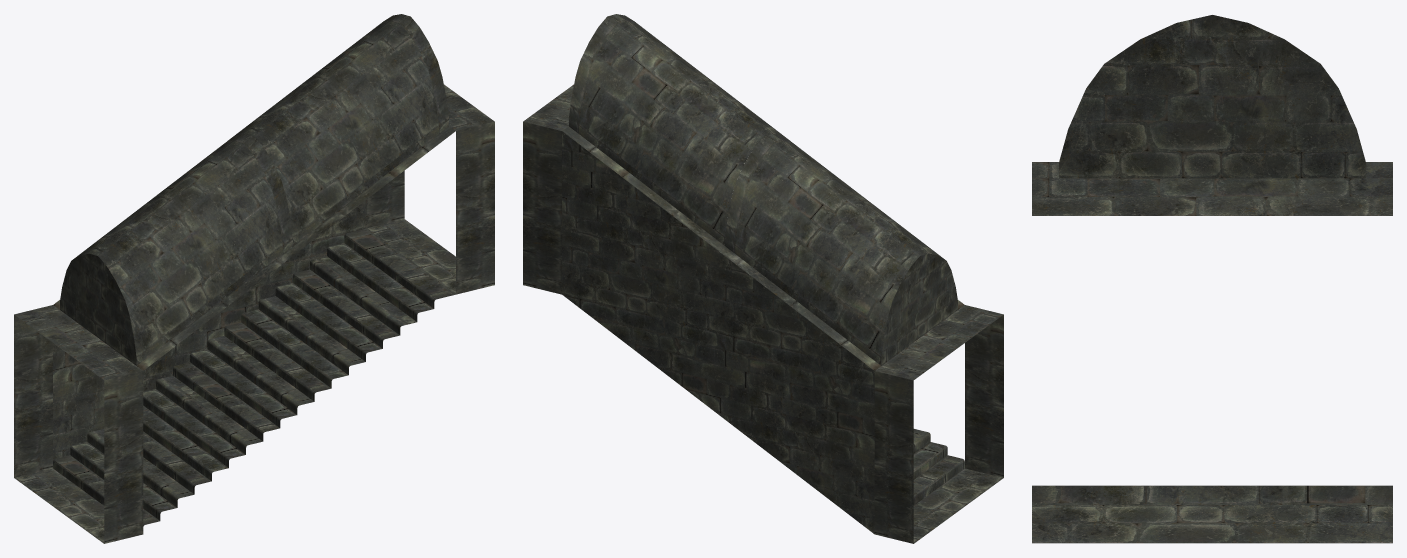
The model's file is stair_U.glb.
3 renders of one model, left to right at view 1: azimuth 30°, elevation 25°; view 2: azimuth 150°, elevation 25°; view 3: azimuth 270°, elevation 25°, orthographic. The views are drawn at different scales.
Parts seen in each view (by area): view 1: ignore.001, Stairs; view 2: ignore.001, Stairs; view 3: ignore.001, Stairs.
Part boxes in pixels (x1=…): ignore.001: x1=14, y1=14, x2=494, y2=543; Stairs: x1=14, y1=219, x2=455, y2=543; ignore.001: x1=523, y1=14, x2=1003, y2=543; Stairs: x1=913, y1=429, x2=1003, y2=543; ignore.001: x1=1032, y1=15, x2=1392, y2=215; Stairs: x1=1032, y1=485, x2=1392, y2=543.
Size of what is drawn, in the model's own units: 10 by 10 by 4.
2 materials, 2 textured.
